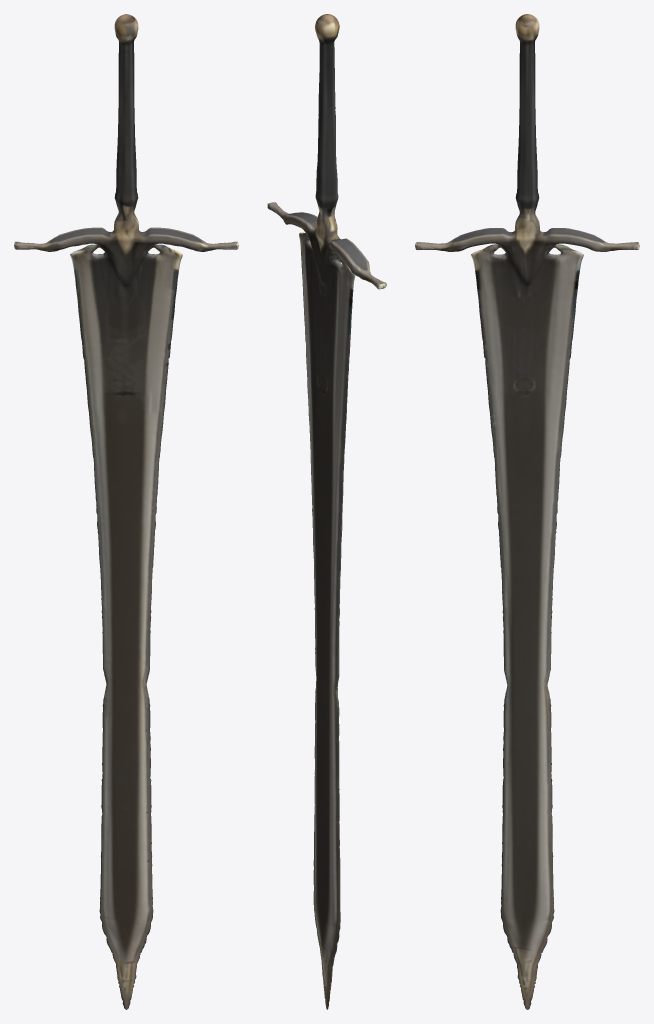
Rendered from Shadowblade_Dominion_1123085849.glb.
The picture shows the model from 3 angles, left to right: view 1: azimuth 90°, elevation 25°; view 2: azimuth 210°, elevation 25°; view 3: azimuth 270°, elevation 25°; orthographic projection.
Bounding box in the file's own units: 0.0445 × 2 × 0.409.
Materials: 1 (1 with a texture image).
